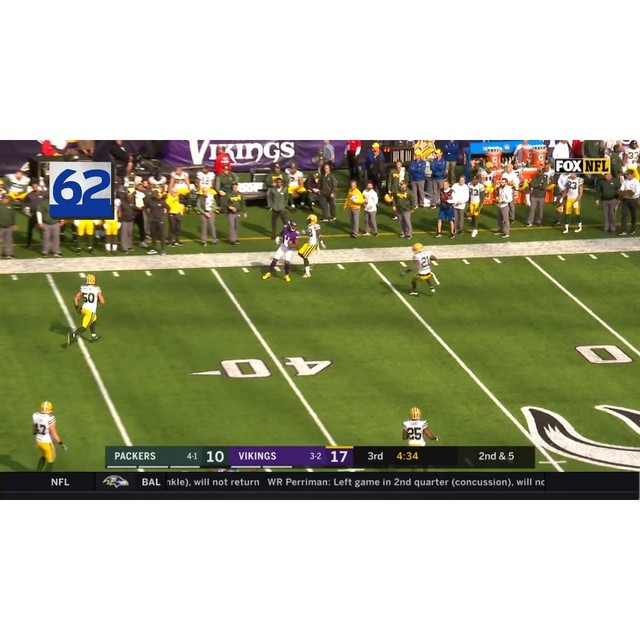american-football-player: (63, 274, 105, 347), (31, 402, 68, 472), (264, 220, 302, 281), (297, 215, 324, 279), (408, 242, 440, 296), (401, 407, 439, 446)
